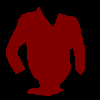felpa: (5, 6, 85, 96)
